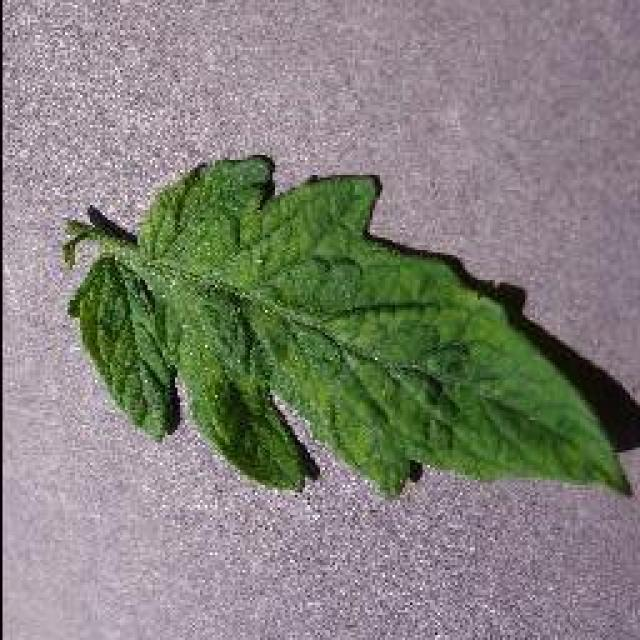Tomato___Tomato_mosaic_virus: (62, 155, 628, 492)
